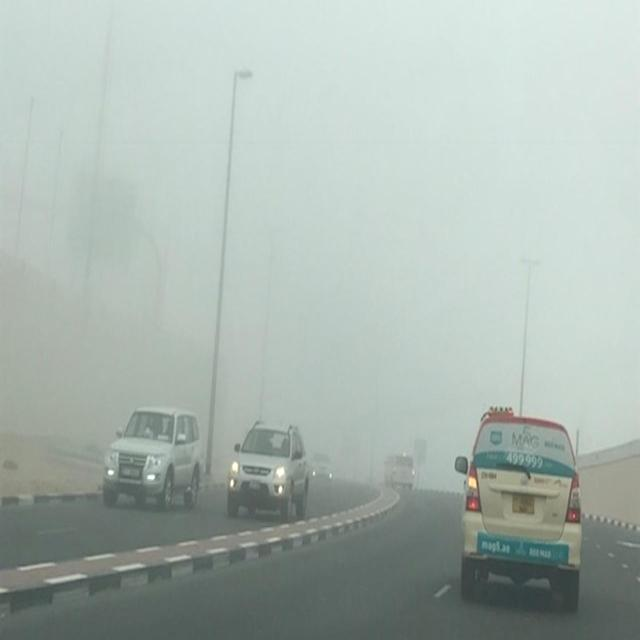Car: (456, 405, 582, 608), (102, 406, 202, 505), (226, 418, 313, 511)
Van: (384, 450, 418, 497)
